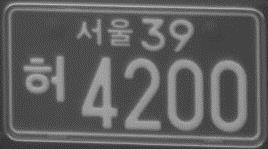0: (208, 57, 250, 134), (165, 58, 205, 133)
2: (123, 56, 163, 131)
3: (140, 17, 166, 52)
4: (79, 56, 120, 129)
9: (169, 17, 195, 54)
서울_O: (76, 17, 135, 48)
허: (22, 52, 67, 104)
